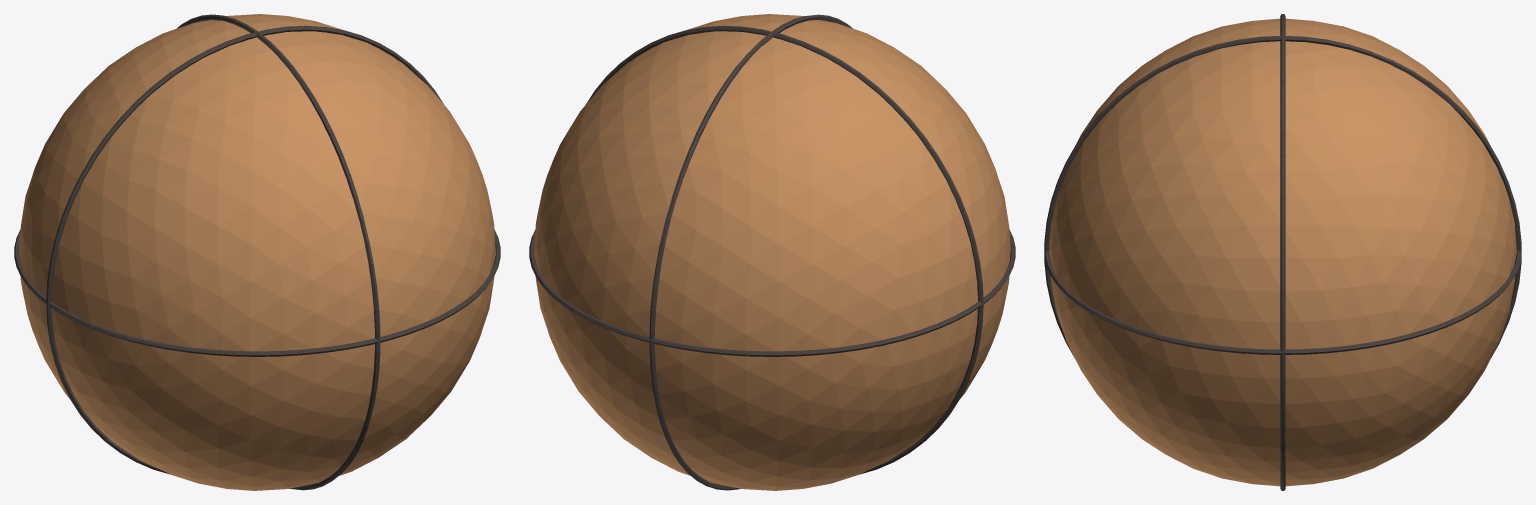
File: basketball.glb
The picture shows the model from 3 angles, left to right: view 1: azimuth 30°, elevation 25°; view 2: azimuth 150°, elevation 25°; view 3: azimuth 270°, elevation 25°; orthographic projection.
Visible parts, largest first — view 1: Ball; view 2: Ball; view 3: Ball.
Boxes of the visible parts, box(x1,y1,x2,y2) form: Ball: box(19, 14, 495, 490); Ball: box(534, 14, 1010, 490); Ball: box(1049, 18, 1516, 486).
Bounding box in the file's own units: 0.2438 × 0.2435 × 0.2435.
